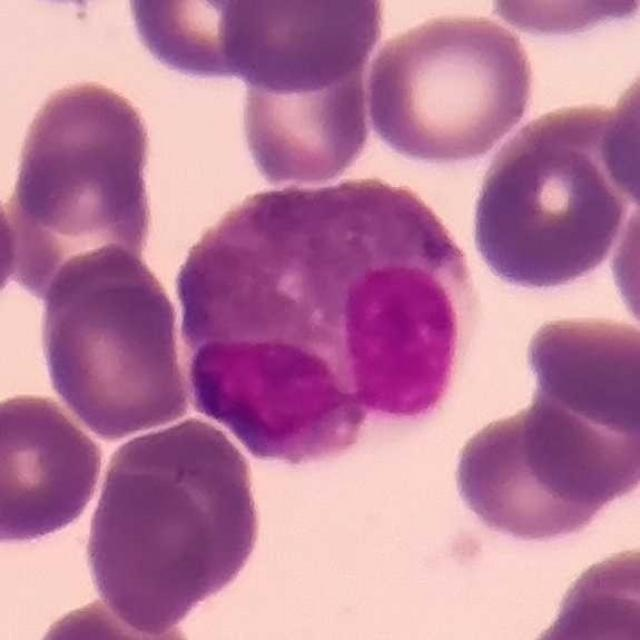Eosinophil: (165, 170, 483, 486)
RBC: (88, 415, 267, 619), (467, 107, 632, 296), (34, 257, 192, 442), (360, 8, 540, 167), (2, 140, 157, 301), (448, 400, 616, 548), (8, 74, 157, 232), (516, 346, 640, 509), (234, 47, 376, 188), (0, 388, 108, 550), (213, 0, 389, 93), (521, 308, 640, 434), (120, 0, 287, 86), (552, 540, 640, 640), (26, 595, 204, 640), (596, 53, 640, 218), (482, 0, 639, 42), (522, 591, 640, 640), (606, 181, 640, 343), (0, 173, 22, 322)
